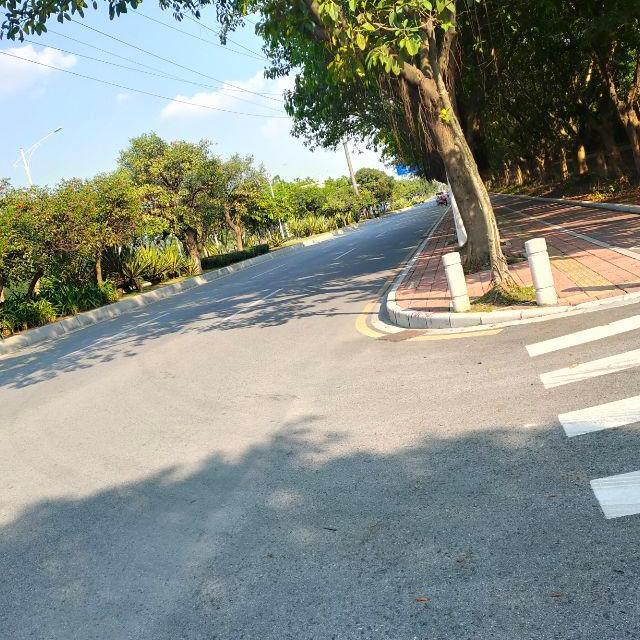curb: (0, 225, 357, 356), (385, 209, 639, 329)
